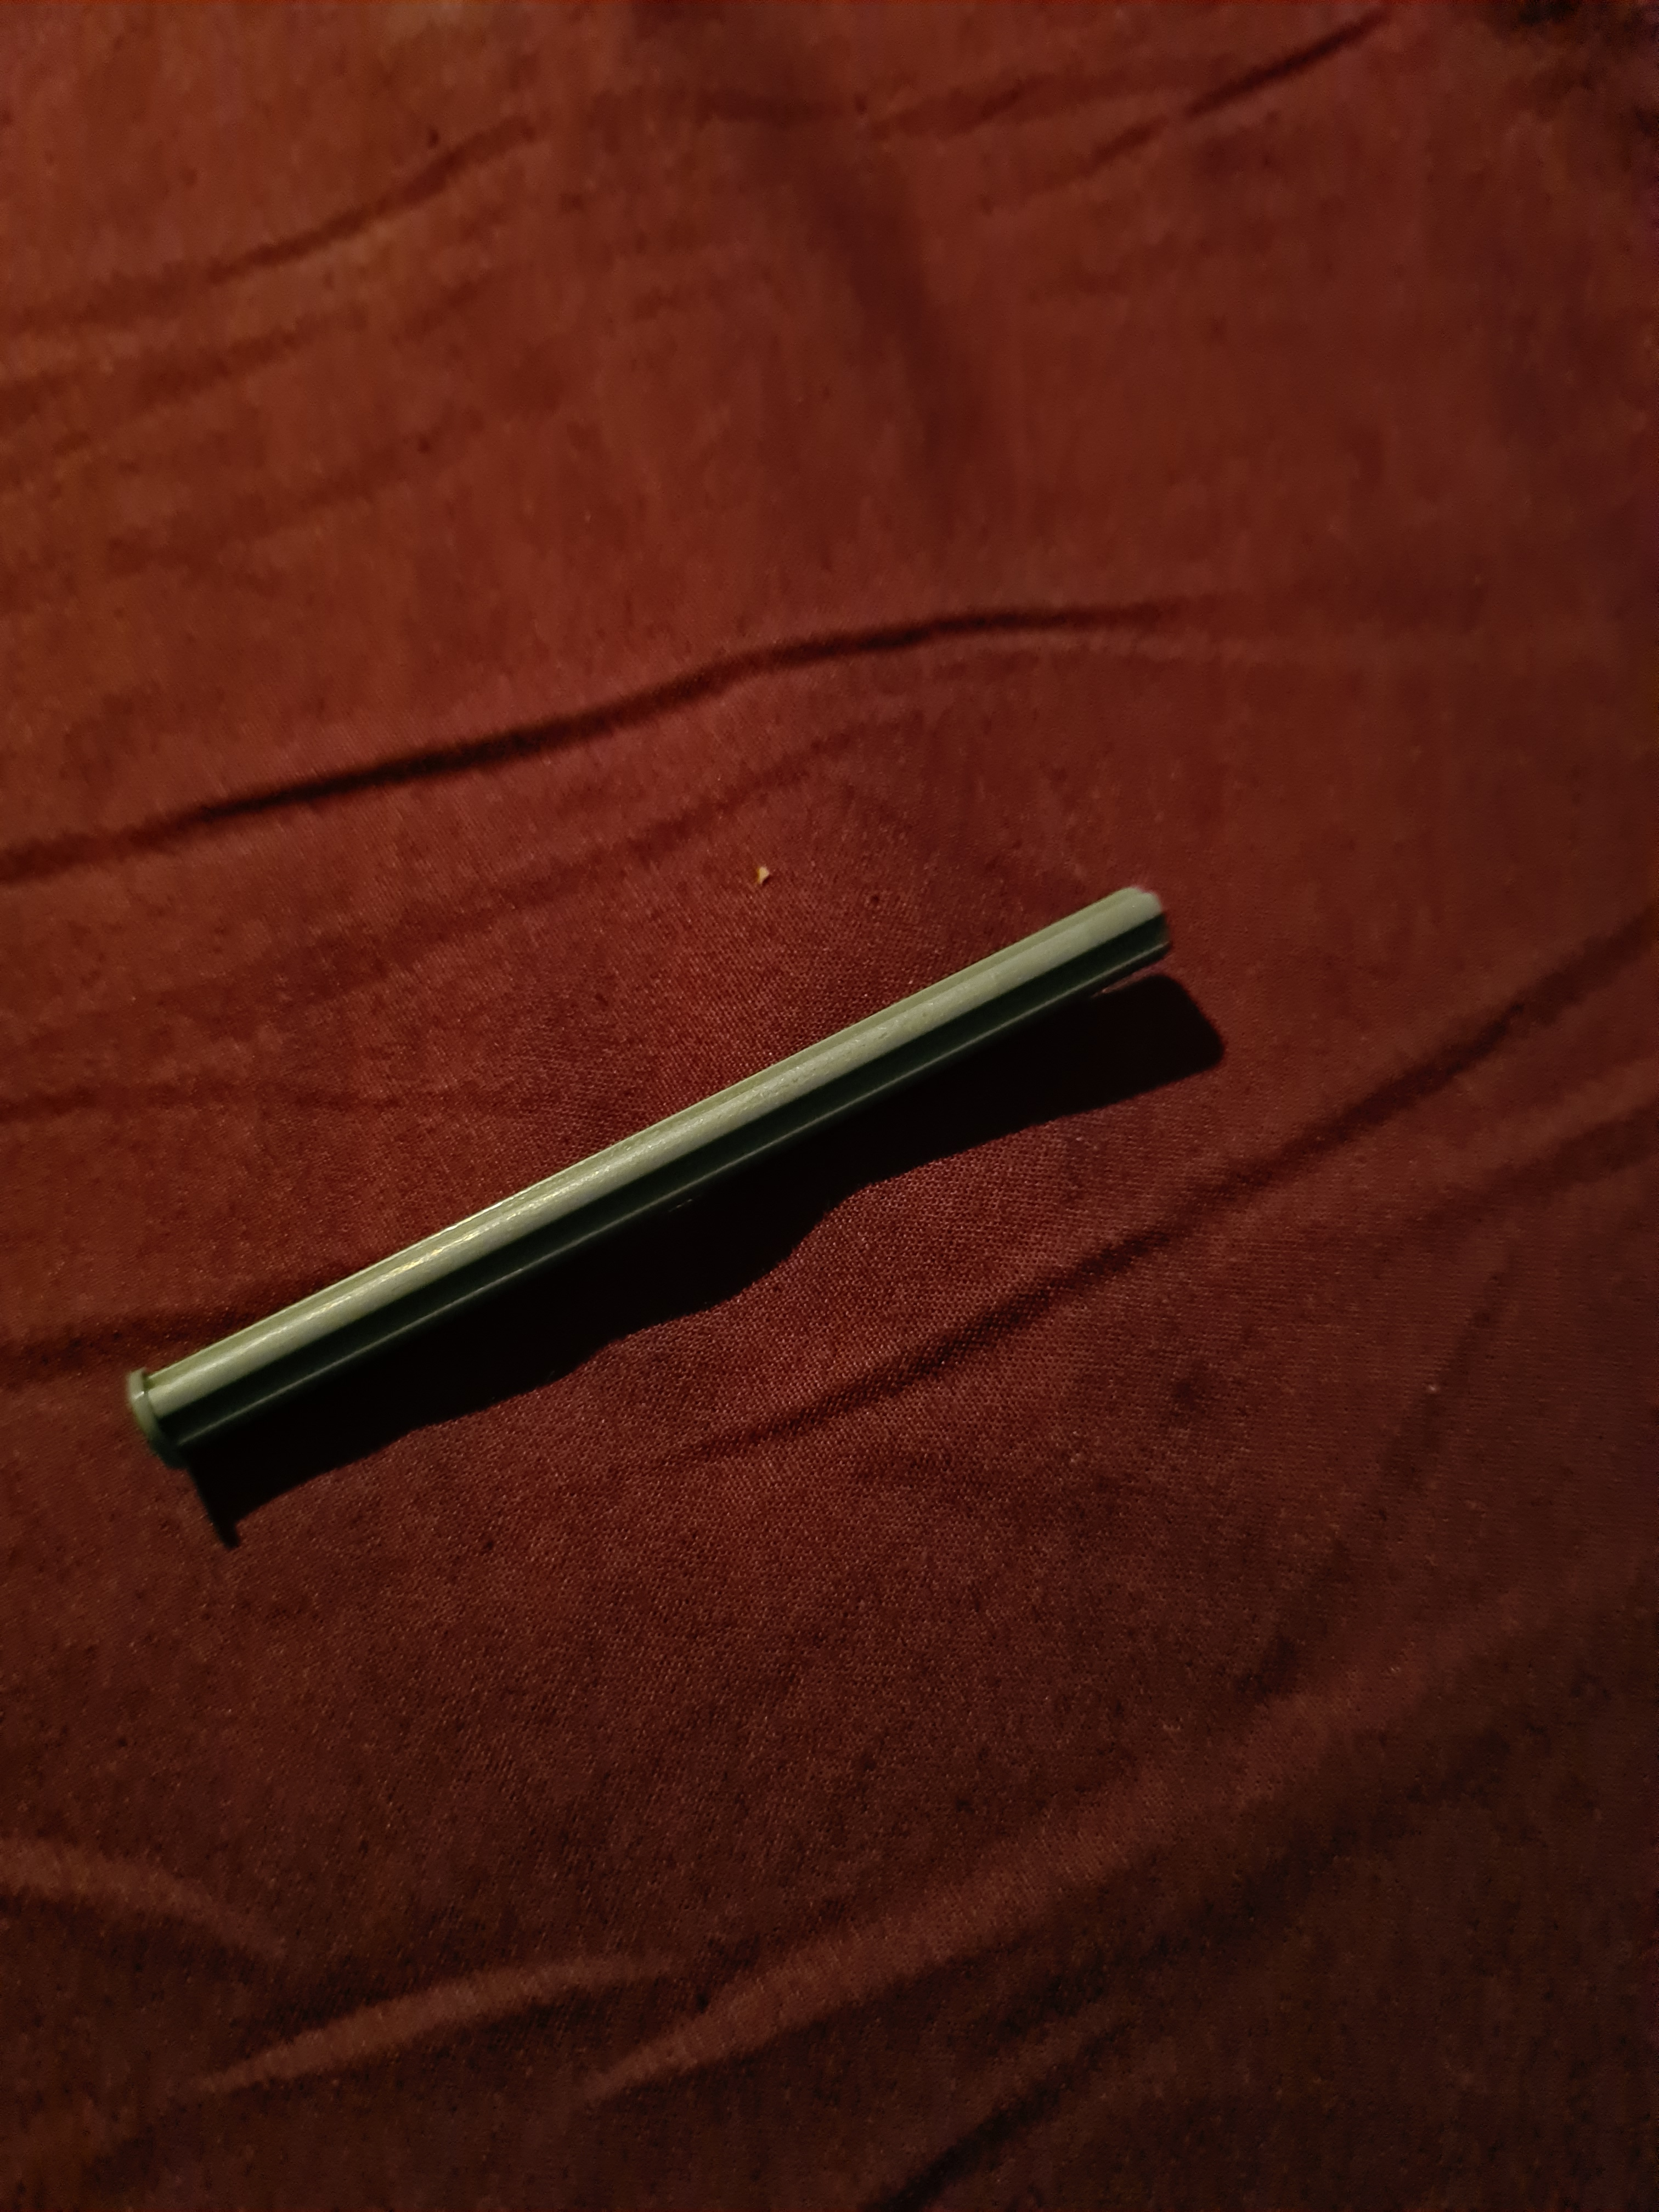Grau_lang: (94, 873, 1194, 1489)
